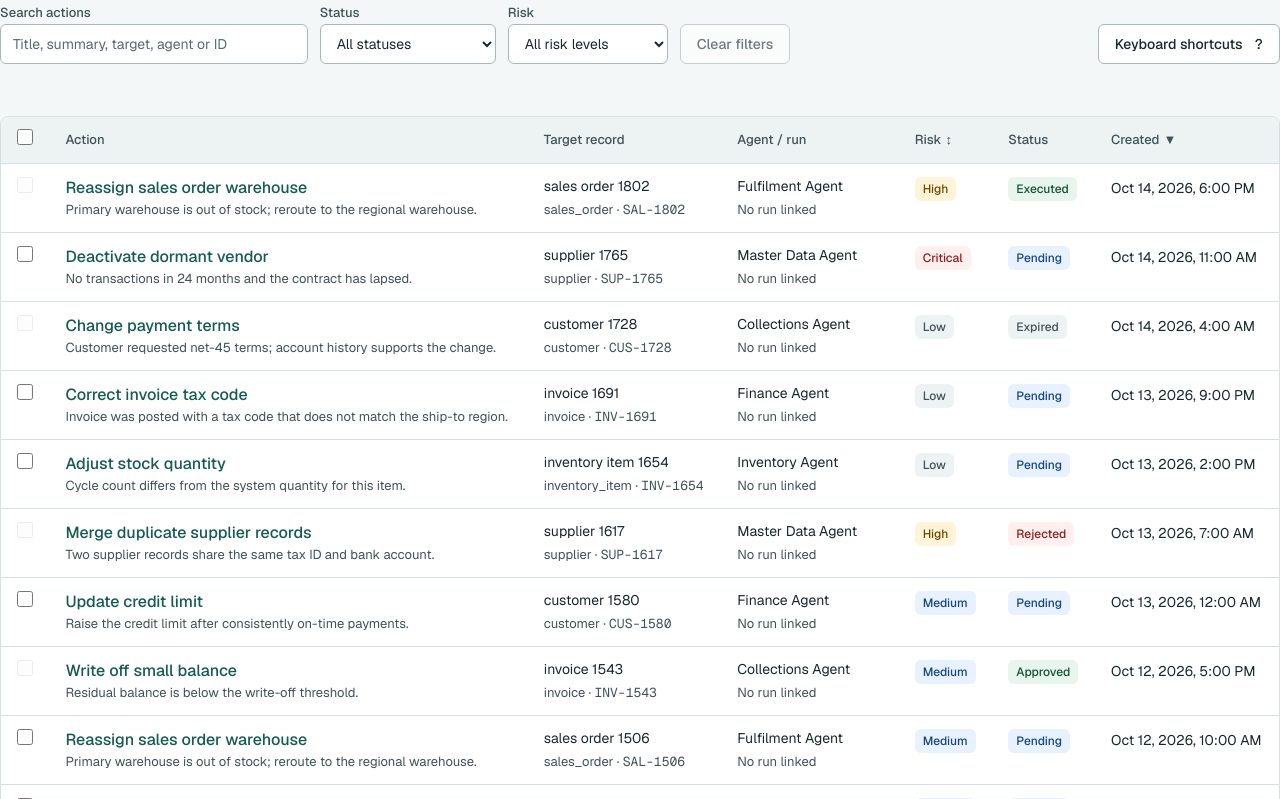
Scenario: PendingActionsQueue › shows partial outcomes and ignores decision shortcuts in editable fields
This screenshot has width=1280, height=799.
Click the checkbox named "Select action:" at {"x": 25, "y": 254}, box [17,246,33,262]
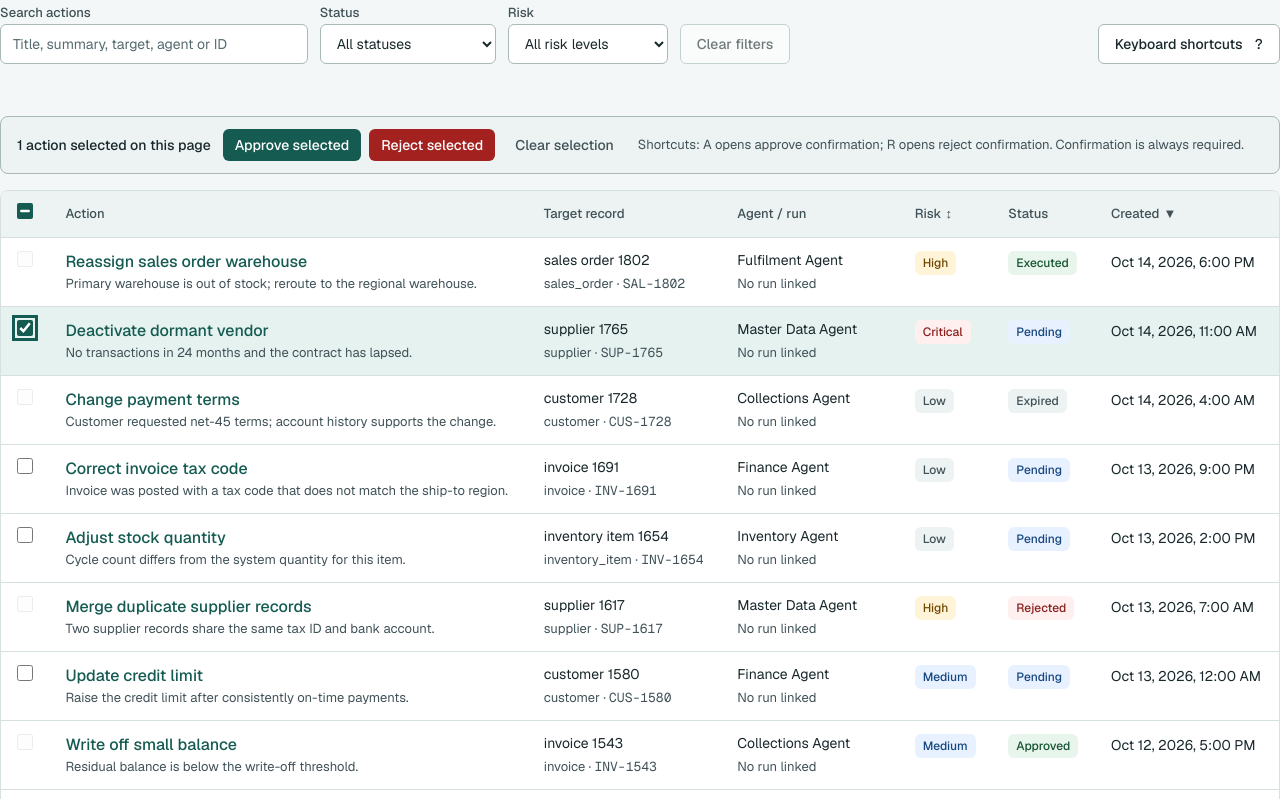
Click the checkbox named "Select action:" at {"x": 25, "y": 466}, box [17,458,33,474]
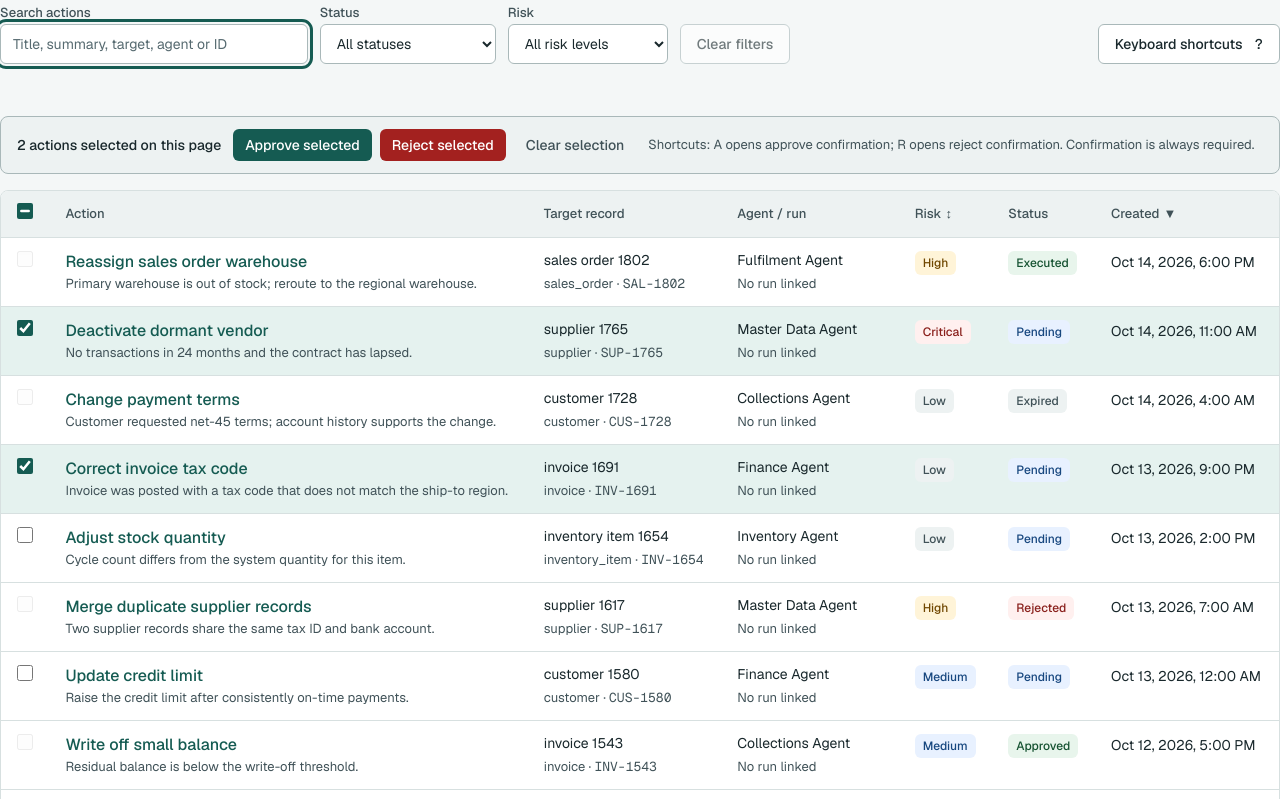
Press a in the search field labelled "Search actions", box [0,24,308,64]
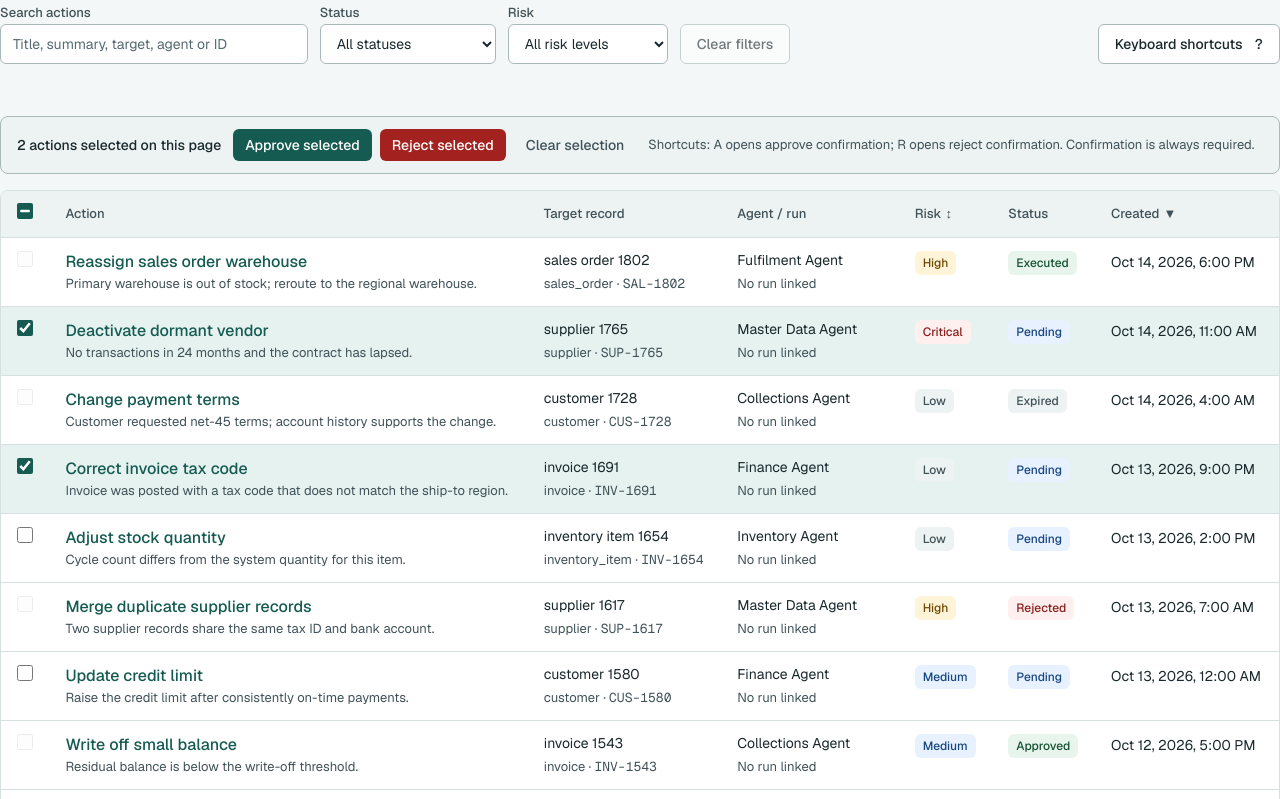
Click the button "Approve selected" at {"x": 302, "y": 145}, box [233,129,372,161]
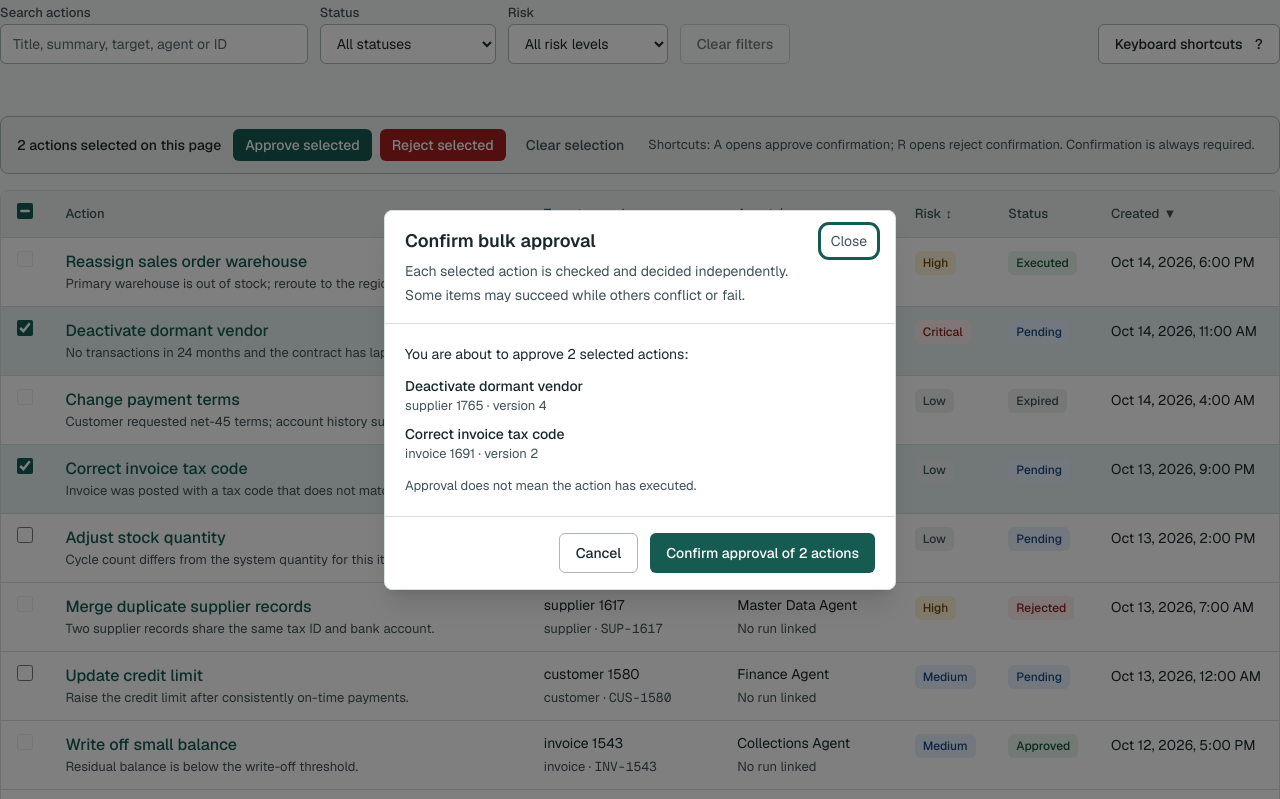
Expected: the heading "Confirm bulk approval" is shown, [405,229,596,252]
Click the button "Confirm approval of 2 actions" at {"x": 763, "y": 553}, box [650,533,875,573]
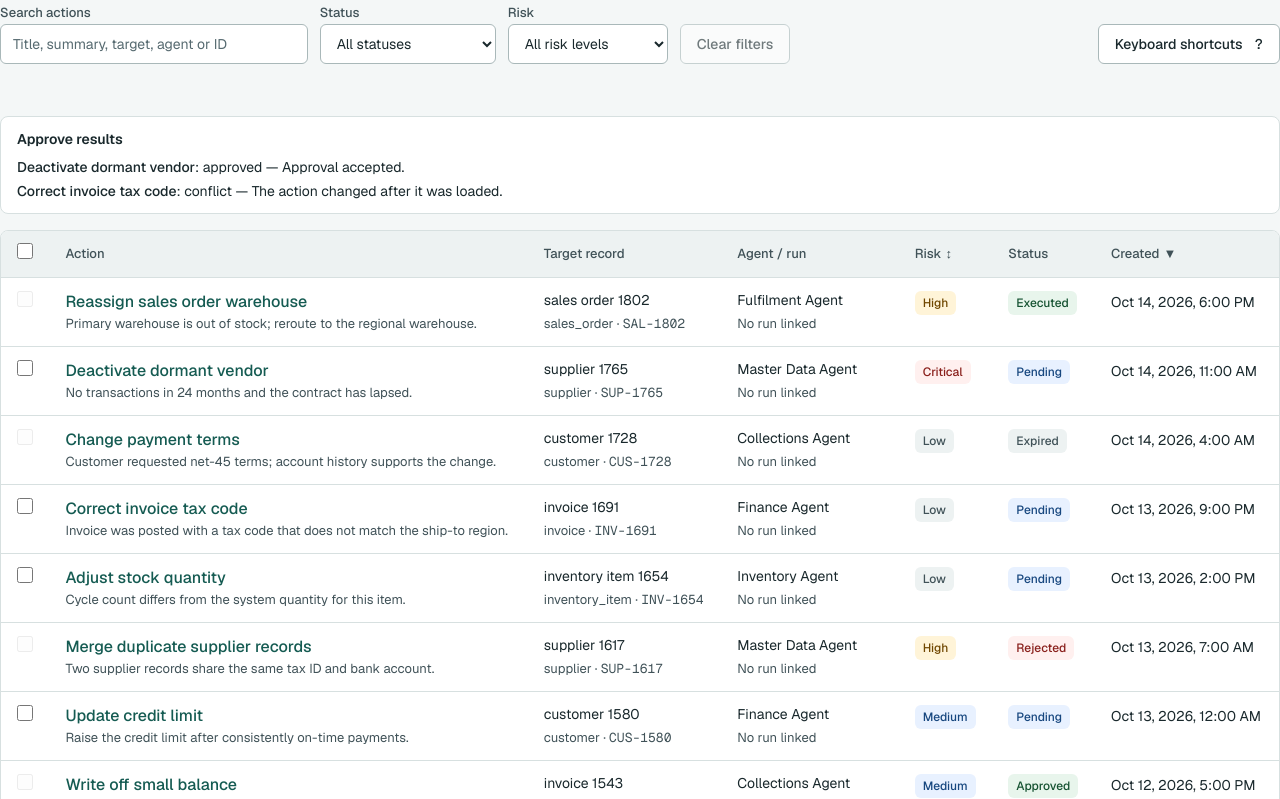
Expected: the list item "conflict — The action changed" is shown, [17,182,502,200]
Expected: the list item "Deactivate dormant vendor: approved — Approval accepted." is shown, [17,158,404,176]
